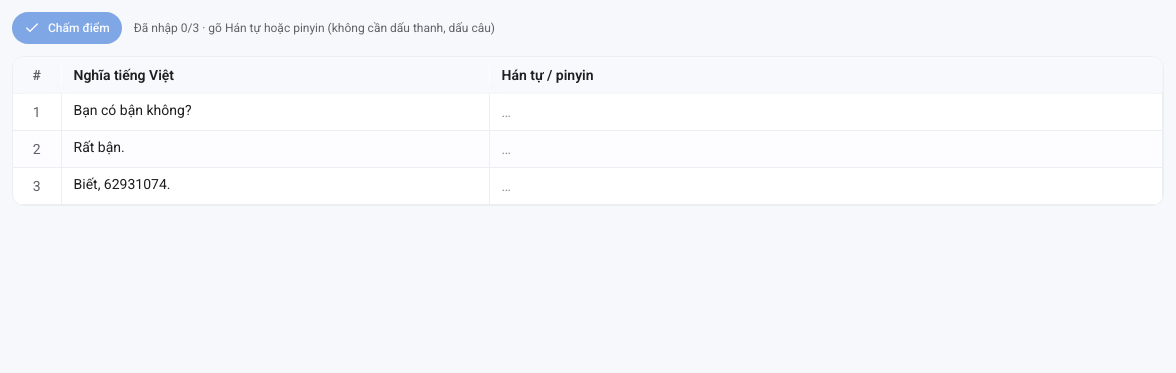
Test: ReadingTest › Việt → Trung: hiện nghĩa Việt, chấm Hán tự lẫn pinyin, câu sai hiện đáp án
Expected: the text "Bạn có bận không?" is shown, [61,94,489,130]
In the field with placeholder "…" in the row of "Bạn có bận không?": (826, 112) [490,94,1162,130], type "你忙吗"
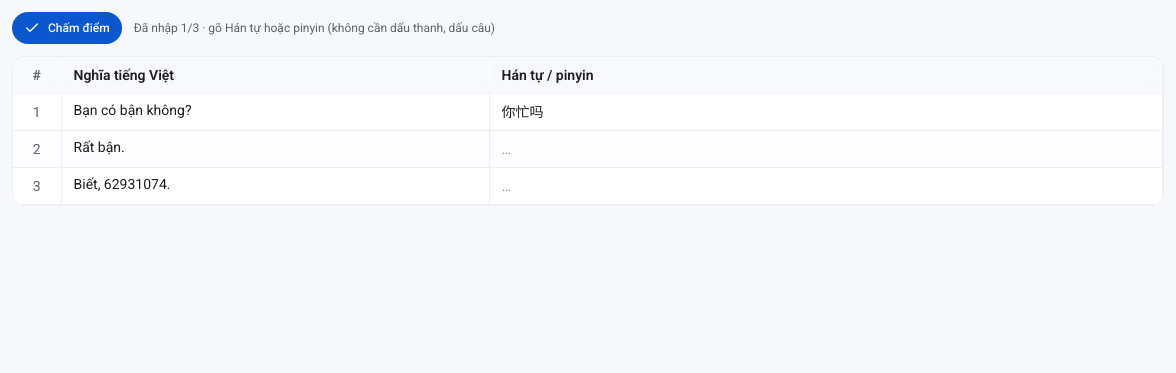
In the field with placeholder "…" in the row of "Rất bận.": (826, 149) [490,131,1162,167], type "hen mang"
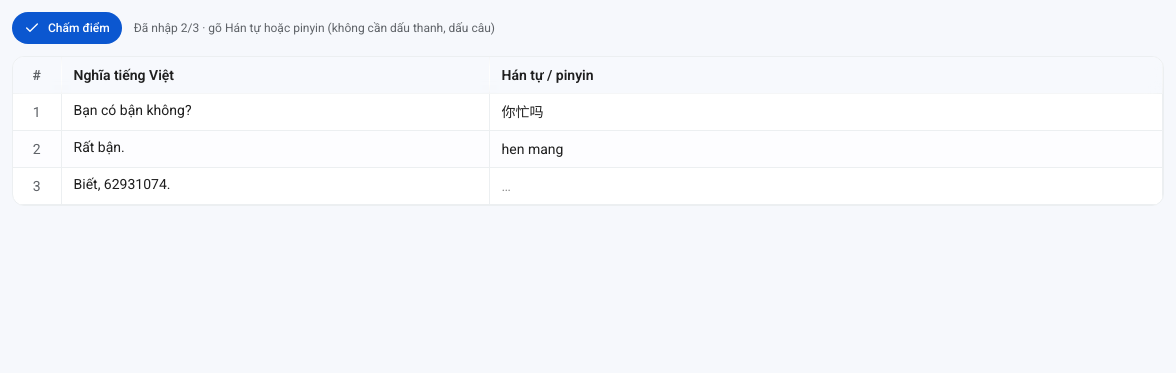
In the field with placeholder "…": (826, 186) [490,168,1162,204], type "知道"
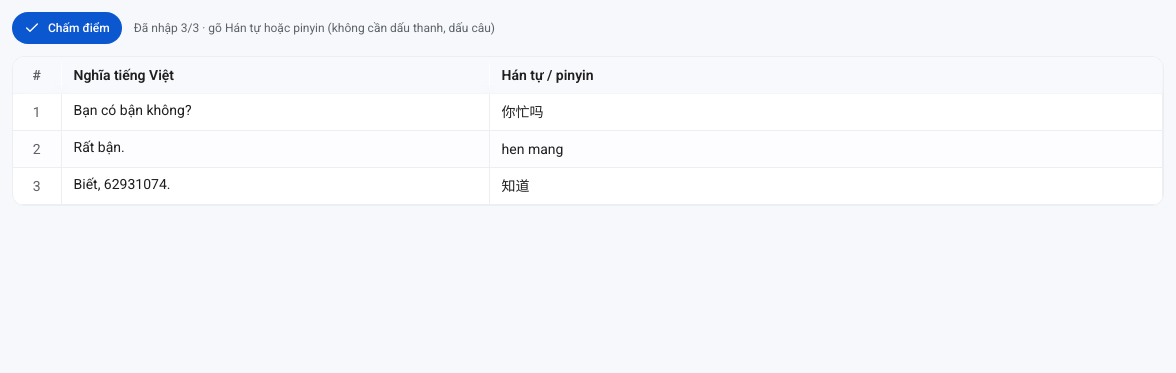
Click the button "Chấm điểm": click(67, 28) [12,12,122,44]
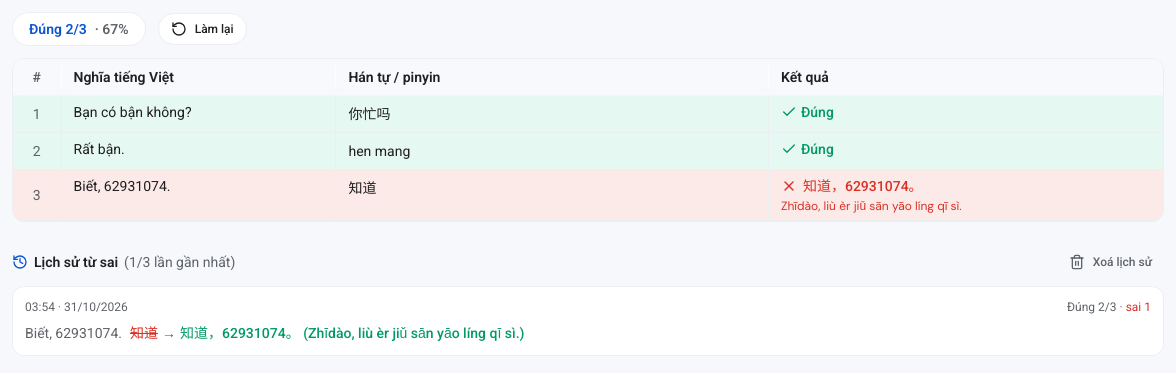
Now the text "Zhīdào, liù èr jiǔ sān yāo líng qī sì." is shown, box [781,198,962,214]
